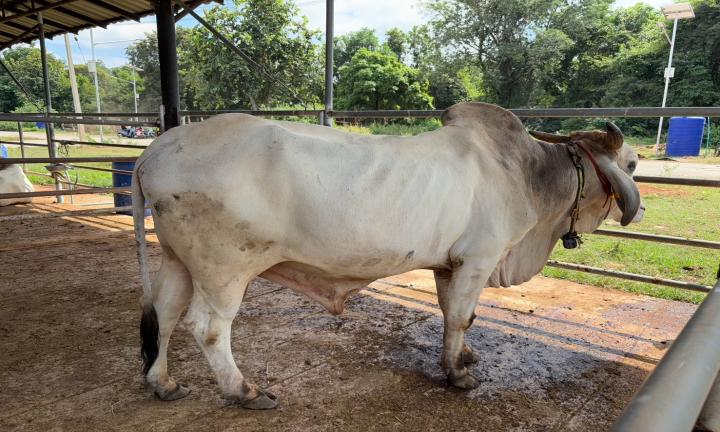Brahman: (132, 103, 642, 409)
